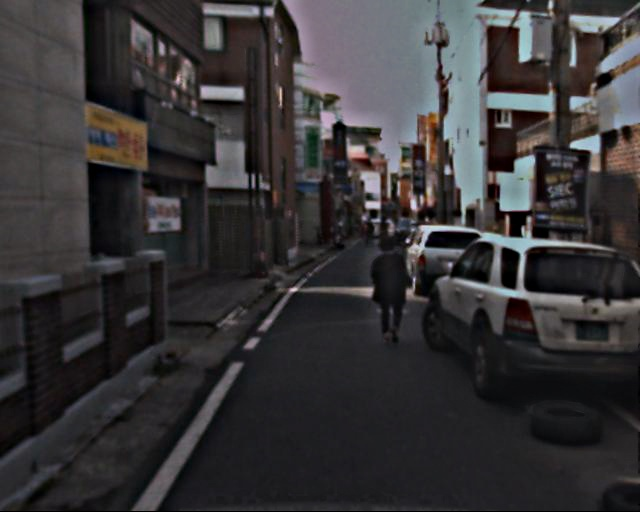person: (366, 236, 411, 346), (365, 216, 389, 248)
